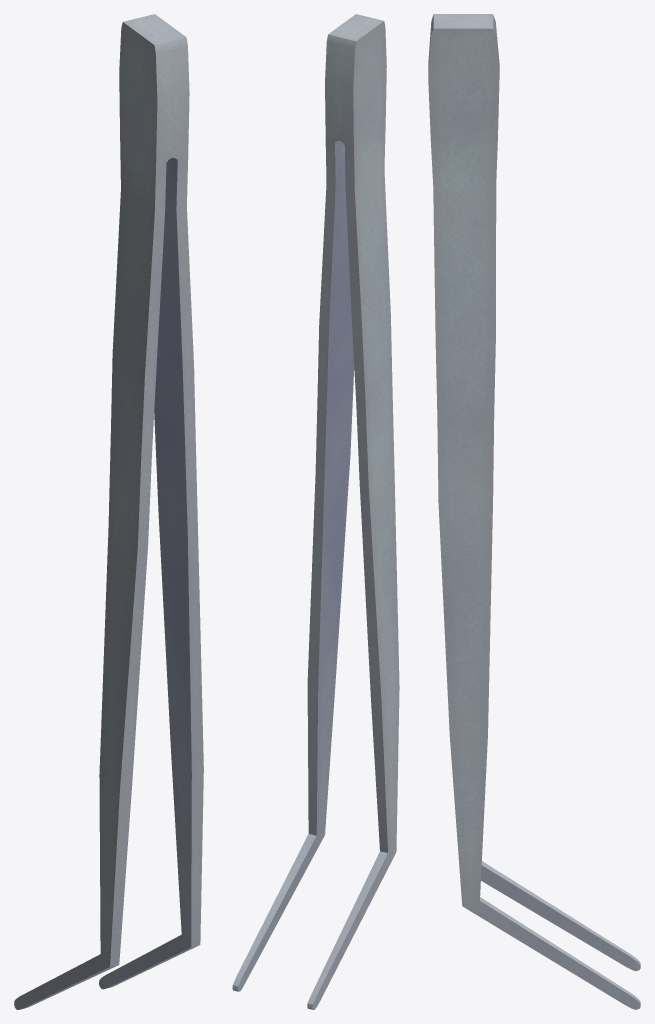
3 renders of one model, left to right at view 1: azimuth 30°, elevation 25°; view 2: azimuth 150°, elevation 25°; view 3: azimuth 270°, elevation 25°, orthographic. The views are drawn at different scales.
Parts seen in each view (by area): view 1: 镊子; view 2: 镊子; view 3: 镊子.
Part boxes in pixels (box(x1,y1,x2,y2)): 镊子: box(14, 14, 203, 1009); 镊子: box(232, 14, 399, 1009); 镊子: box(428, 14, 640, 1009).
Size of the model in its own units: 0.0247 by 0.2688 by 0.0535.
Materials: 1 (1 with a texture image).
